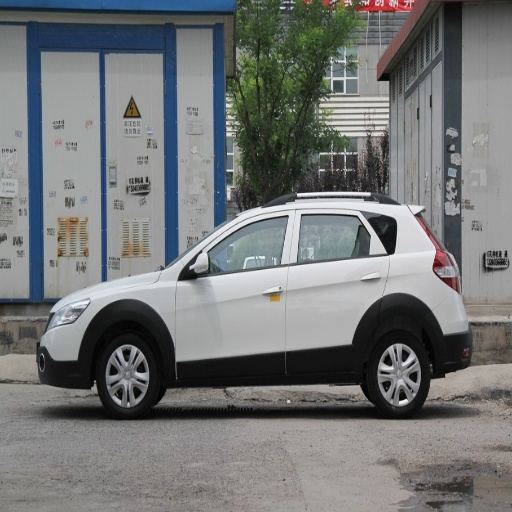back_left_door: (287, 209, 385, 373)
front_left_door: (176, 209, 294, 371)
